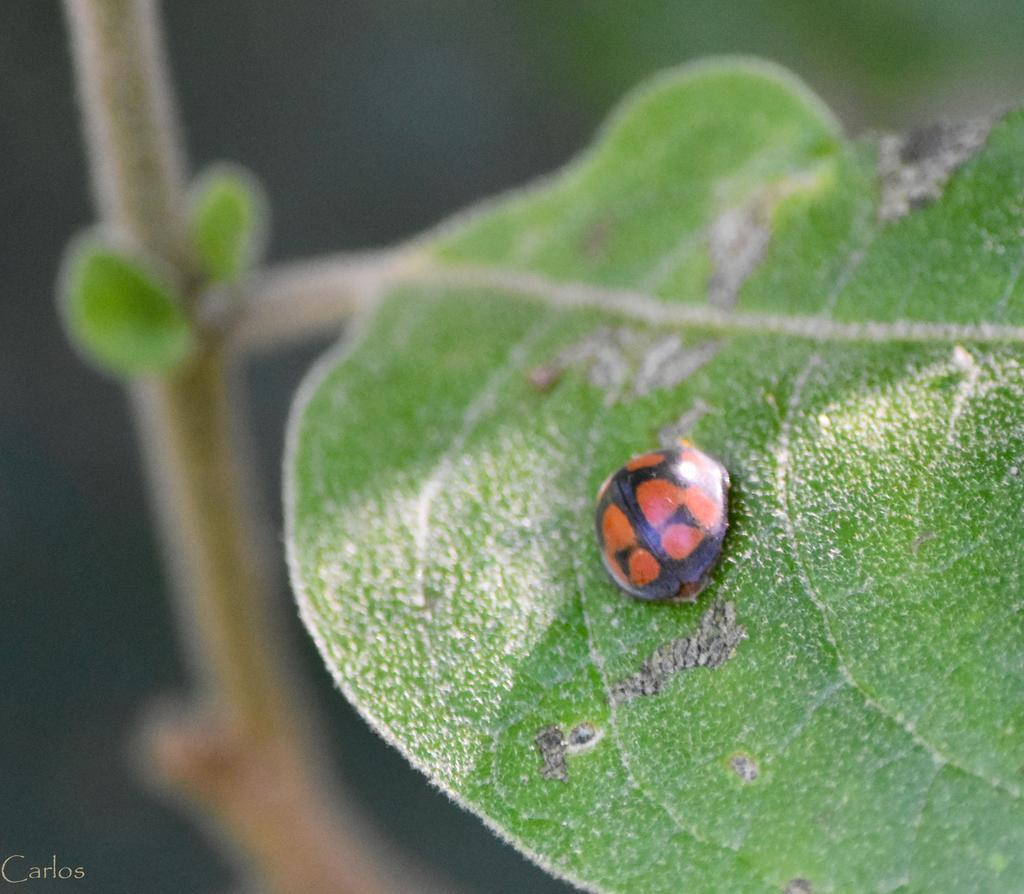ladybug: (591, 434, 744, 614)
